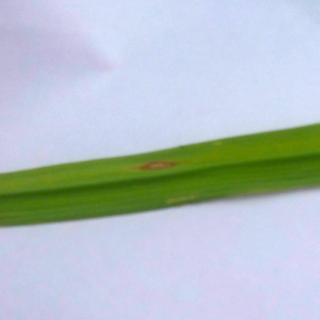Blast: (122, 150, 196, 187)
